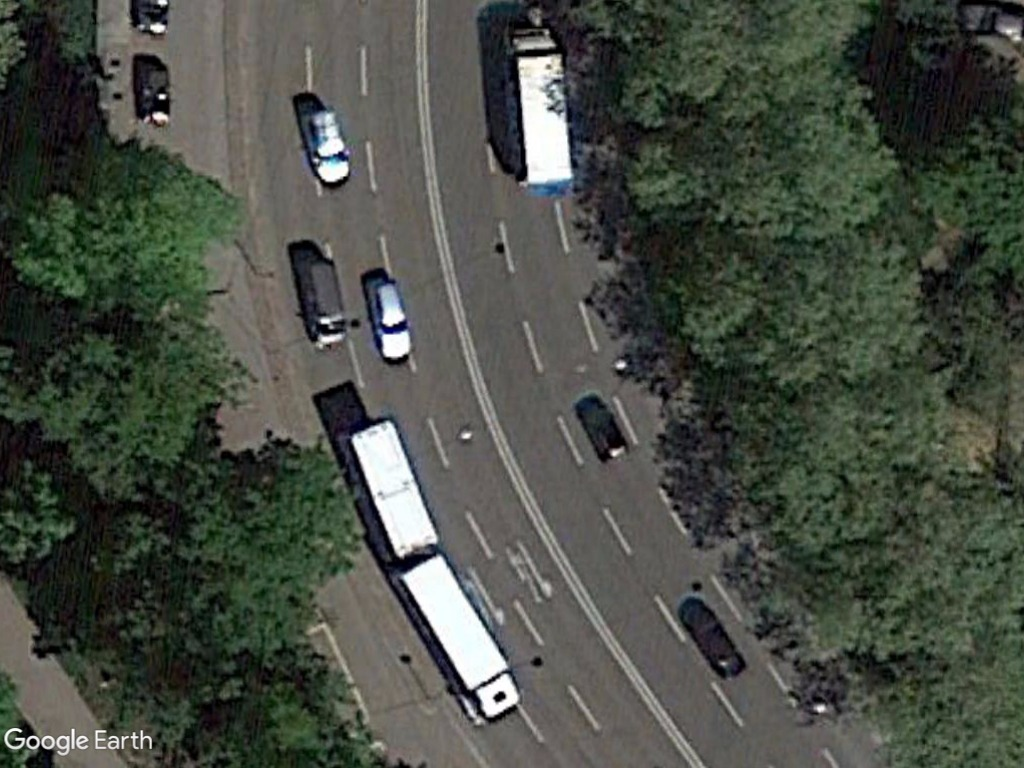car: (361, 270, 416, 364)
longvehicle: (334, 418, 442, 560)
truck: (392, 548, 528, 722), (504, 23, 582, 197)
van: (292, 252, 352, 356), (298, 100, 354, 189)
